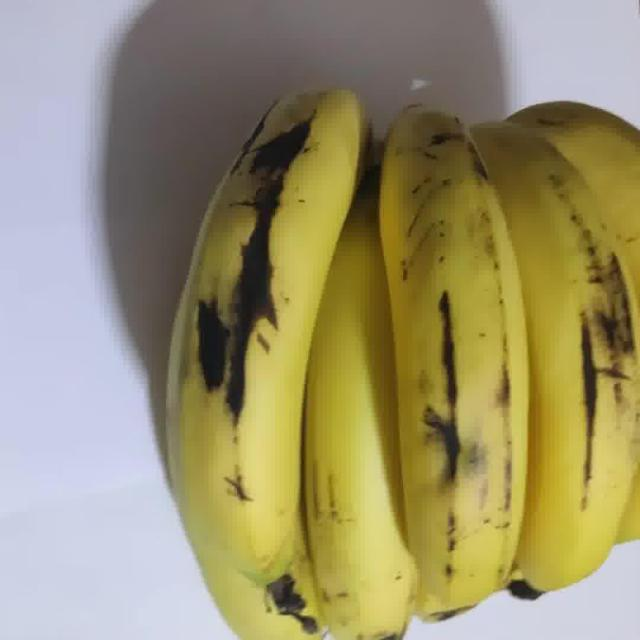Banana: (156, 92, 639, 639)
